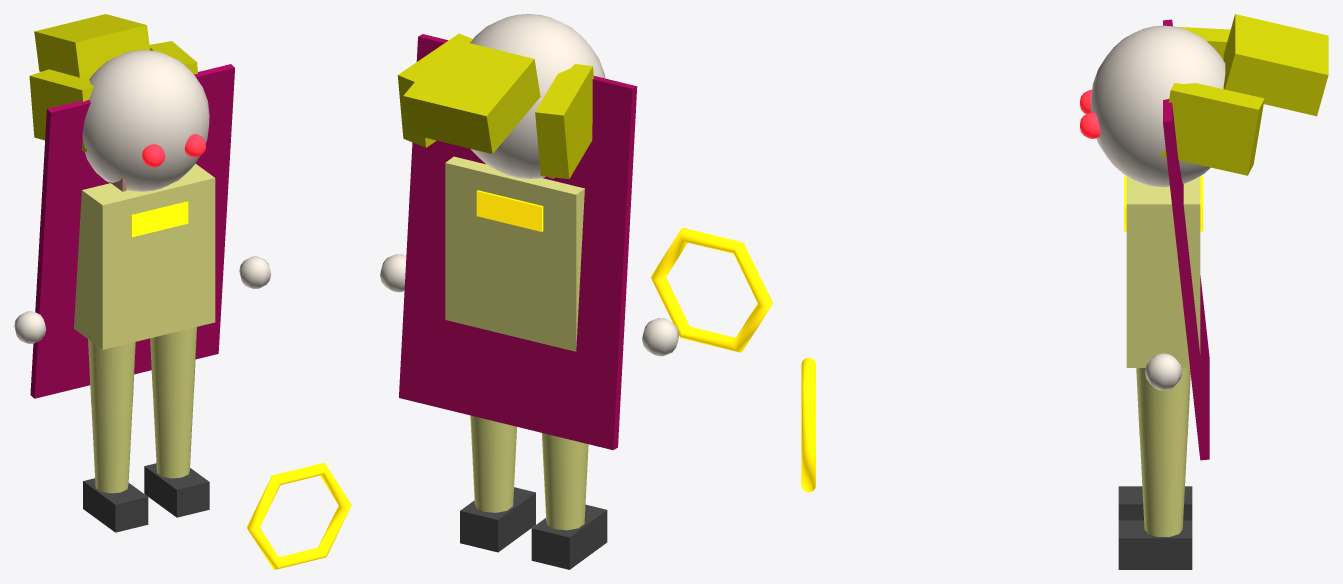
Rendered from dio.glb.
3 renders of one model, left to right at view 1: azimuth 30°, elevation 25°; view 2: azimuth 150°, elevation 25°; view 3: azimuth 270°, elevation 25°, orthographic. The views are drawn at different scales.
Parts seen in each view (by area): view 1: torso, cape, head, hair-top, headband, leg-lo--1, leg-lo-1, leg-up--1, leg-up-1, boot--1, boot-1, hair-side-l (+5 smaller); view 2: cape, torso, hair-top, head, hair-side-l, headband, leg-lo-1, leg-lo--1, boot--1, boot-1, chest-plate, hair-side-r (+2 smaller); view 3: head, torso, hair-top, hair-side-r, cape, leg-lo-1, leg-up-1, boot-1, headband, boot--1, hand-1.
Boxes of the visible parts, x1=… form: torso: x1=74, y1=163, x2=215, y2=349; cape: x1=30, y1=64, x2=234, y2=398; head: x1=82, y1=50, x2=209, y2=191; hair-top: x1=34, y1=14, x2=150, y2=79; headband: x1=247, y1=463, x2=351, y2=569; leg-lo--1: x1=91, y1=404, x2=132, y2=493; leg-lo-1: x1=152, y1=389, x2=193, y2=478; leg-up--1: x1=88, y1=339, x2=135, y2=412; leg-up-1: x1=150, y1=327, x2=196, y2=397; boot--1: x1=83, y1=478, x2=148, y2=532; boot-1: x1=144, y1=463, x2=209, y2=517; hair-side-l: x1=29, y1=69, x2=94, y2=151; cape: x1=399, y1=34, x2=637, y2=449; torso: x1=445, y1=156, x2=584, y2=351; hair-top: x1=403, y1=38, x2=540, y2=153; head: x1=470, y1=14, x2=605, y2=178; hair-side-l: x1=535, y1=64, x2=593, y2=178; headband: x1=651, y1=228, x2=772, y2=352; leg-lo-1: x1=470, y1=415, x2=516, y2=512; leg-lo--1: x1=541, y1=433, x2=588, y2=530; boot--1: x1=531, y1=504, x2=607, y2=569; boot-1: x1=460, y1=487, x2=535, y2=552; chest-plate: x1=476, y1=190, x2=543, y2=231; hair-side-r: x1=397, y1=33, x2=472, y2=147; head: x1=1091, y1=25, x2=1225, y2=187; torso: x1=1126, y1=176, x2=1200, y2=367; hair-top: x1=1223, y1=14, x2=1328, y2=116; hair-side-r: x1=1159, y1=83, x2=1264, y2=175; cape: x1=1163, y1=19, x2=1209, y2=460; leg-lo-1: x1=1139, y1=436, x2=1187, y2=536; leg-up-1: x1=1136, y1=368, x2=1190, y2=445; boot-1: x1=1118, y1=520, x2=1192, y2=569; headband: x1=801, y1=357, x2=815, y2=492; boot--1: x1=1118, y1=486, x2=1192, y2=520; hand-1: x1=1145, y1=353, x2=1182, y2=390.
Size of the model in its own units: 2.48 by 4.21 by 3.94.
